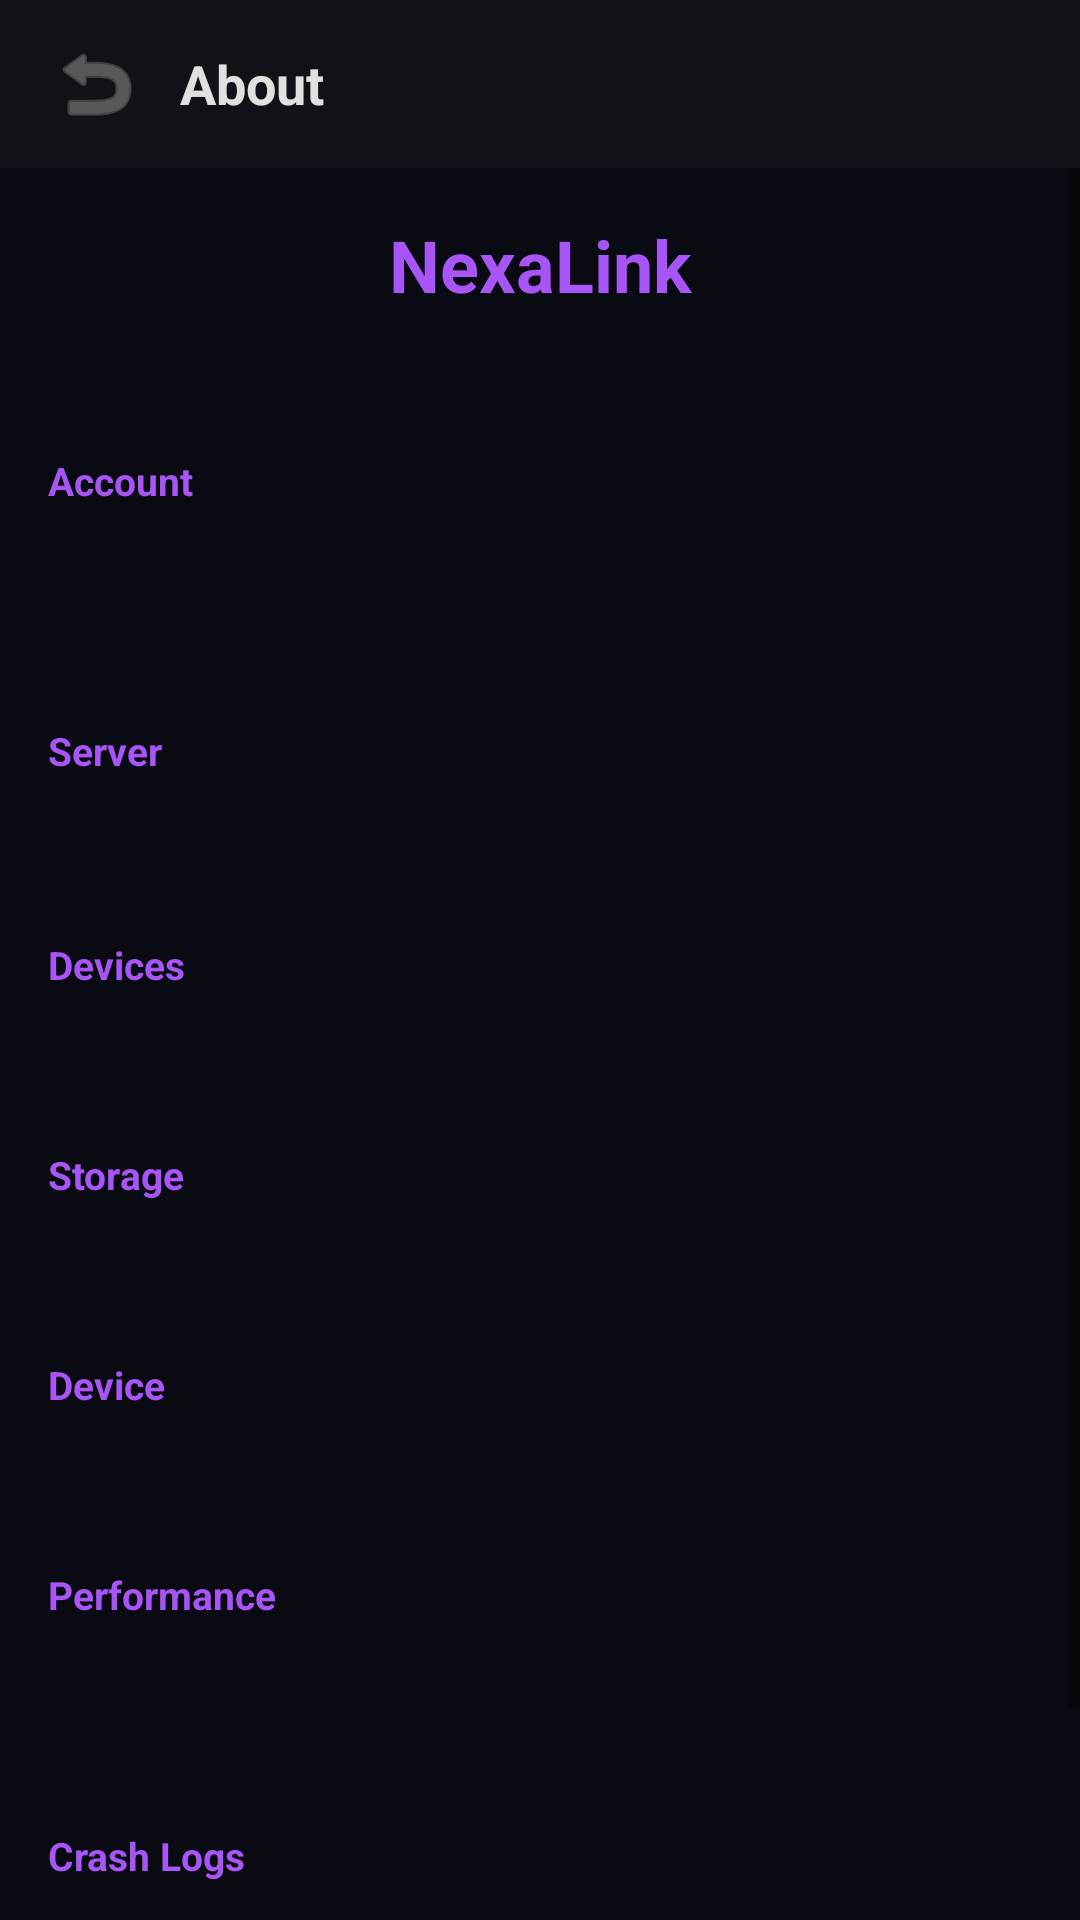

Named icons in this screenshot (1080w x 1920h) and their bounding boxes, (x1, y1, x2, y2):
Back: (63, 54, 132, 116)
